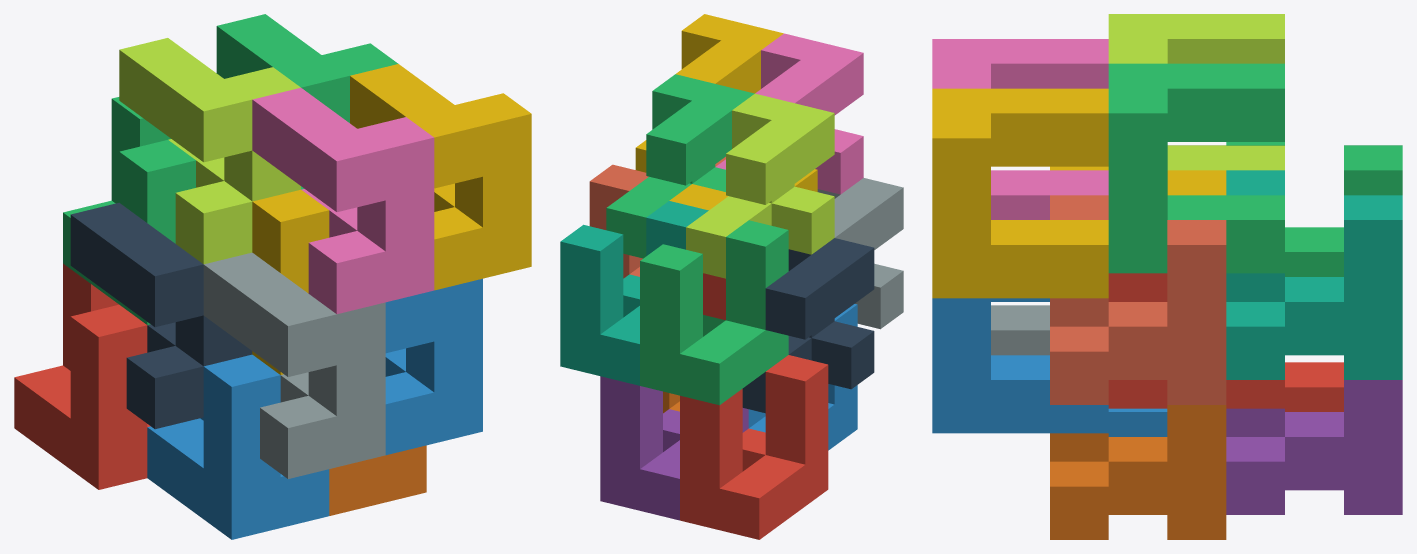
Rendered from tiling.obj.
3 renders of one model, left to right at view 1: azimuth 30°, elevation 25°; view 2: azimuth 150°, elevation 25°; view 3: azimuth 270°, elevation 25°, orthographic. The views are drawn at different scales.
Parts seen in each view (by area): view 1: copy_2_domain_4, copy_2_domain_2, copy_2_domain_8, copy_2_domain_3, copy_2_domain_1, copy_1_domain_2, copy_1_domain_1, copy_2_domain_6, copy_1_domain_3, copy_2_domain_7, copy_1_domain_4, copy_1_domain_6; view 2: copy_1_domain_1, copy_1_domain_3, copy_2_domain_3, copy_1_domain_7, copy_2_domain_1, copy_2_domain_7, copy_1_domain_5, copy_2_domain_4, copy_2_domain_2, copy_2_domain_8, copy_1_domain_8, copy_1_domain_2 (+2 smaller); view 3: copy_2_domain_8, copy_2_domain_7, copy_1_domain_7, copy_1_domain_8, copy_1_domain_5, copy_1_domain_6, copy_2_domain_6, copy_2_domain_4, copy_2_domain_3, copy_1_domain_3, copy_2_domain_5, copy_2_domain_2 (+3 smaller).
Boxes of the visible parts, box(x1,y1,x2,y2) form: copy_2_domain_4: box(252, 87, 434, 313); copy_2_domain_2: box(203, 252, 385, 478); copy_2_domain_8: box(350, 64, 531, 290); copy_2_domain_3: box(119, 38, 300, 264); copy_2_domain_1: box(70, 202, 252, 429); copy_1_domain_2: box(147, 354, 329, 539); copy_1_domain_1: box(14, 263, 150, 489); copy_2_domain_6: box(385, 278, 482, 455); copy_1_domain_3: box(63, 97, 195, 324); copy_2_domain_7: box(216, 14, 398, 189); copy_1_domain_4: box(252, 189, 329, 374); copy_1_domain_6: box(329, 445, 426, 515); copy_1_domain_1: box(680, 355, 828, 539); copy_1_domain_3: box(640, 220, 788, 405); copy_2_domain_3: box(686, 93, 834, 278); copy_1_domain_7: box(560, 201, 708, 385); copy_2_domain_1: box(742, 238, 874, 413); copy_2_domain_7: box(606, 74, 754, 258); copy_1_domain_5: box(600, 376, 748, 520); copy_2_domain_4: box(715, 33, 863, 194); copy_2_domain_2: box(817, 178, 903, 329); copy_2_domain_8: box(635, 14, 783, 172); copy_1_domain_8: box(589, 156, 725, 278); copy_1_domain_2: box(748, 304, 857, 450); copy_2_domain_8: box(932, 88, 1108, 298); copy_2_domain_7: box(1108, 63, 1284, 273); copy_1_domain_7: box(1226, 170, 1402, 379); copy_1_domain_8: box(1050, 195, 1226, 404); copy_1_domain_5: box(1226, 380, 1402, 514); copy_1_domain_6: box(1050, 405, 1226, 539); copy_2_domain_6: box(932, 298, 1108, 433); copy_2_domain_4: box(932, 39, 1108, 219); copy_2_domain_3: box(1108, 14, 1284, 170); copy_1_domain_3: box(1226, 142, 1402, 276); copy_2_domain_5: box(1108, 273, 1284, 408); copy_2_domain_2: box(991, 305, 1049, 355).
Size of the model in its own units: 6 by 8 by 8.
